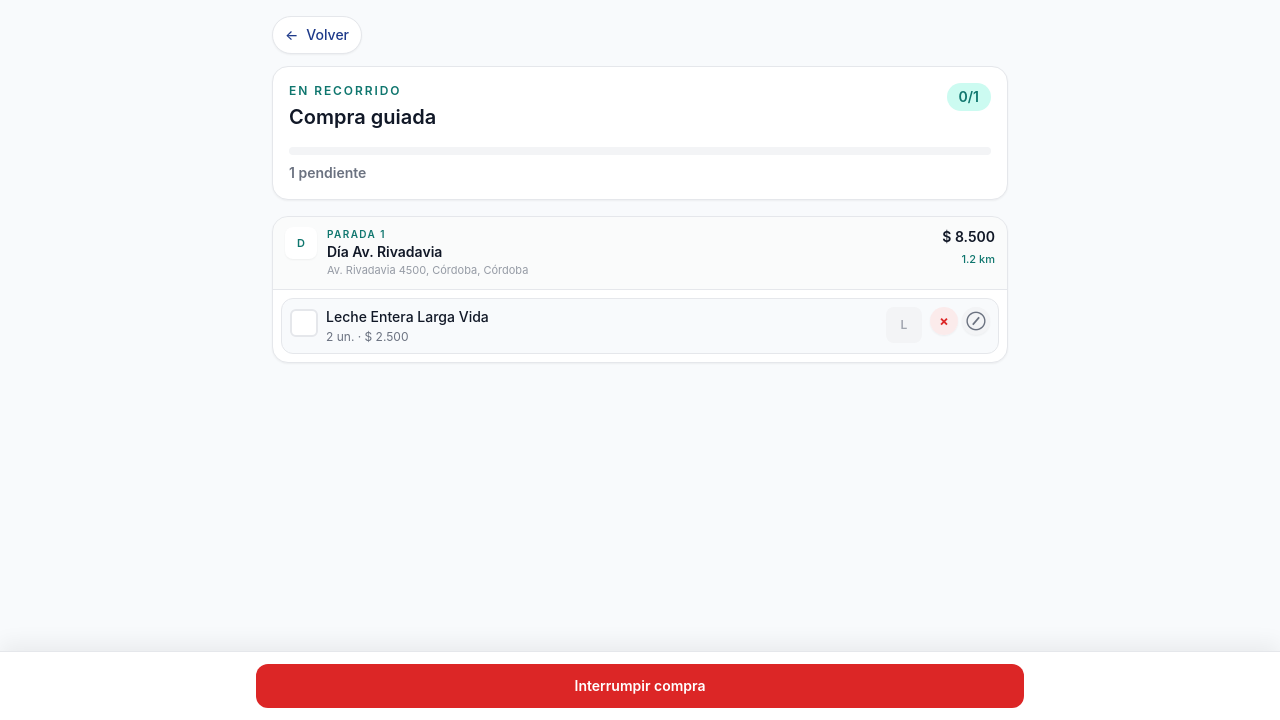
Test: UI reference pages › renders guided purchase grouped by stop and updates item status
The image size is (1280, 720).
Expected: the heading "Compra guiada" is shown, [289,103,436,131]
Expected: the text "1 pendiente" is shown, [289,164,366,181]
Click the button named "marcar leche entera larga vida como conseguido": click(304, 322) [290,308,318,336]
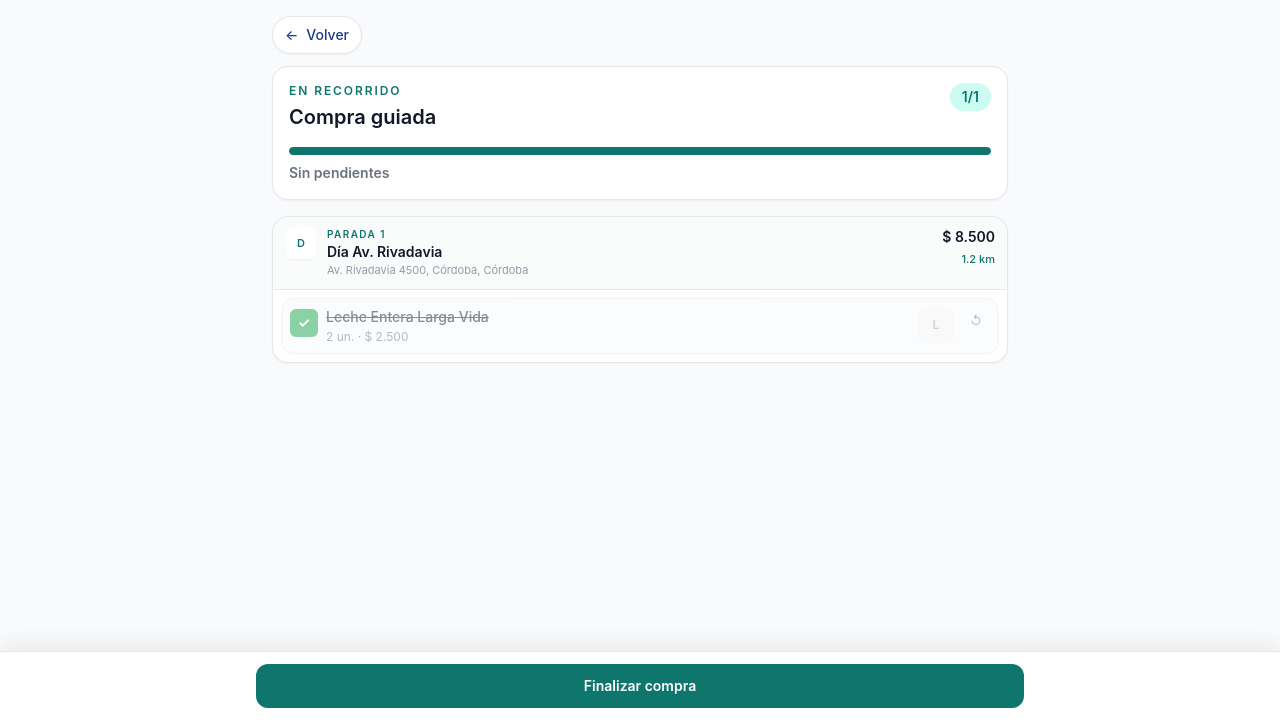
Now the text "Sin pendientes" is shown, box [289,164,390,181]
Now the button "Finalizar compra" is shown, box [256,664,1024,708]
